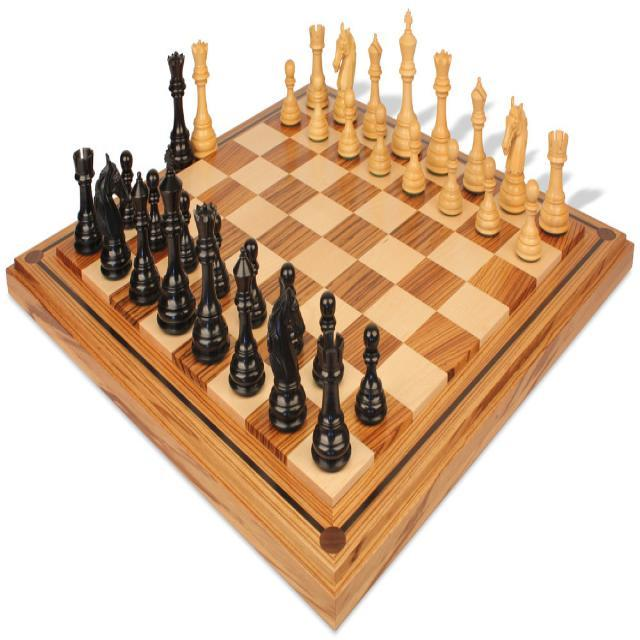chess-table-corners: (320, 480, 339, 510), (576, 218, 590, 239), (52, 243, 66, 263)
